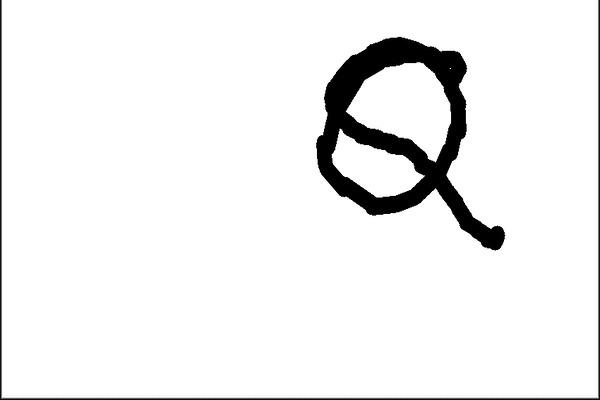Q: (308, 27, 528, 246)
